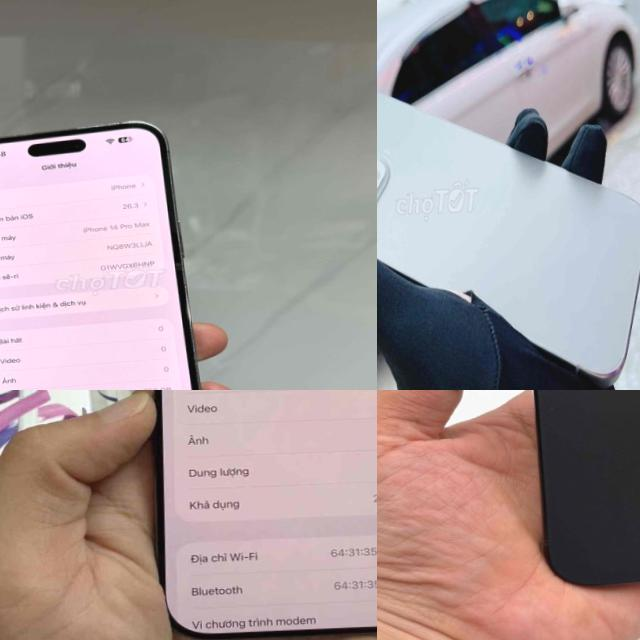gen_12_13: (377, 77, 640, 390)
gen_14: (0, 117, 219, 390)
gen_15: (499, 390, 640, 590)
gen_17: (129, 390, 377, 640)
